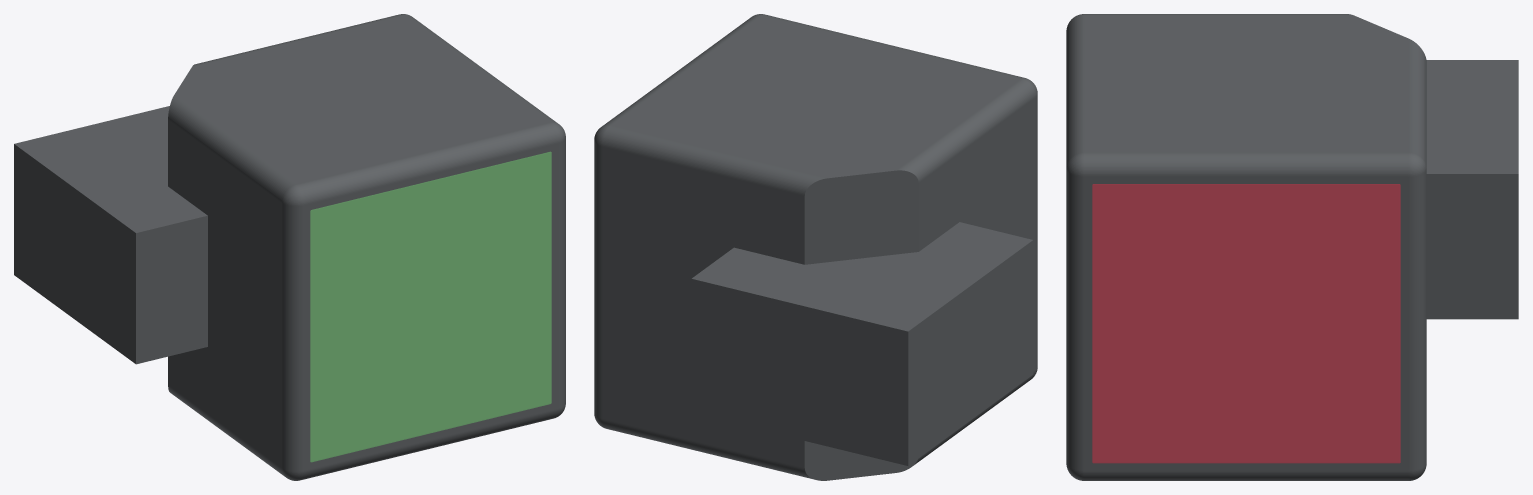
The model's file is RubiksCubeEdge.glb.
3 views of the same model, side by side, from view 1: azimuth 30°, elevation 25°; view 2: azimuth 150°, elevation 25°; view 3: azimuth 270°, elevation 25° (orthographic). The views are drawn at different scales.
Visible parts, largest first — view 1: Mesh_Mesh_head_geo.001_lambert2SG.001; view 2: Mesh_Mesh_head_geo.001_lambert2SG.001; view 3: Mesh_Mesh_head_geo.001_lambert2SG.001.
Boxes of the visible parts, x1,y1,x2,y2 form: Mesh_Mesh_head_geo.001_lambert2SG.001: (14, 14, 565, 480); Mesh_Mesh_head_geo.001_lambert2SG.001: (594, 14, 1037, 480); Mesh_Mesh_head_geo.001_lambert2SG.001: (1066, 14, 1518, 480).
Size of the model in its own units: 25.1 by 20 by 25.1.
